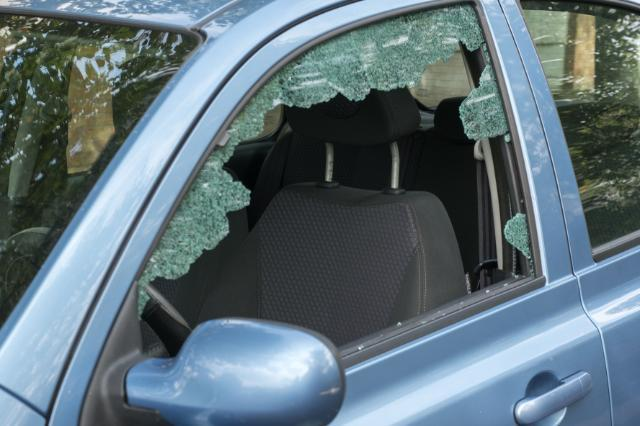Door: (155, 44, 541, 349)
